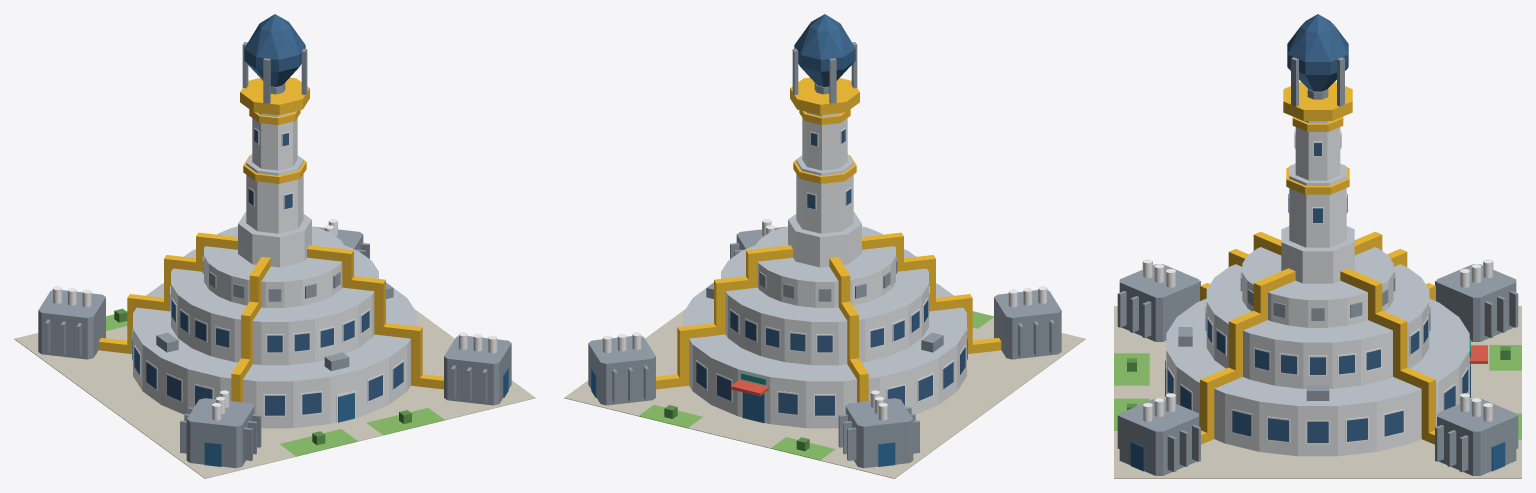
File: domeshield.glb
The picture shows the model from 3 angles, left to right: view 1: azimuth 30°, elevation 25°; view 2: azimuth 150°, elevation 25°; view 3: azimuth 270°, elevation 25°; orthographic projection. The views are drawn at different scales.
Parts seen in each view (by area): view 1: paving (×3), transformer (×3), base_tier1, conduit (×3), base_tier1_roof, base_tier2, base_tier2_roof, shield_emitter, base_tier3_roof, spire, base_tier3, cooling_fins (×3) (+5 smaller); view 2: paving (×3), transformer (×3), conduit (×3), base_tier1, base_tier1_roof, base_tier2, base_tier2_roof, shield_emitter, base_tier3_roof, spire, base_tier3, cooling_fins (×3) (+6 smaller); view 3: paving (×4), transformer (×4), base_tier1, conduit (×4), base_tier1_roof, base_tier2, base_tier2_roof, cooling_fins (×4), base_tier3_roof, shield_emitter, spire, base_tier3 (+7 smaller).
Part boxes in pixels (x1,y1,x2,y2): paving (×3): [14, 326, 535, 478]; transformer (×3): [38, 290, 511, 468]; base_tier1: [133, 329, 410, 428]; conduit (×3): [98, 232, 443, 402]; base_tier1_roof: [133, 283, 416, 381]; base_tier2: [171, 284, 374, 365]; base_tier2_roof: [171, 245, 378, 321]; shield_emitter: [244, 14, 305, 86]; base_tier3_roof: [204, 226, 345, 281]; spire: [246, 160, 303, 233]; base_tier3: [204, 256, 342, 307]; cooling_fins (×3): [45, 319, 487, 460]; paving (×3): [564, 317, 1085, 478]; transformer (×3): [588, 290, 1061, 468]; conduit (×3): [656, 232, 1001, 402]; base_tier1: [689, 329, 966, 428]; base_tier1_roof: [683, 283, 966, 381]; base_tier2: [725, 284, 928, 365]; base_tier2_roof: [721, 245, 928, 321]; shield_emitter: [794, 14, 855, 86]; base_tier3_roof: [754, 226, 895, 281]; spire: [796, 160, 853, 233]; base_tier3: [757, 256, 895, 307]; cooling_fins (×3): [612, 319, 1054, 460]; paving (×4): [1114, 306, 1521, 478]; transformer (×4): [1119, 264, 1516, 475]; base_tier1: [1166, 351, 1469, 456]; conduit (×4): [1200, 231, 1435, 444]; base_tier1_roof: [1166, 298, 1469, 405]; base_tier2: [1206, 302, 1429, 388]; base_tier2_roof: [1206, 264, 1429, 342]; cooling_fins (×4): [1117, 280, 1518, 471]; base_tier3_roof: [1242, 247, 1393, 299]; shield_emitter: [1287, 14, 1348, 91]; spire: [1289, 176, 1346, 247]; base_tier3: [1242, 273, 1393, 327].
Size of the model in its own units: 40 by 41 by 40.
